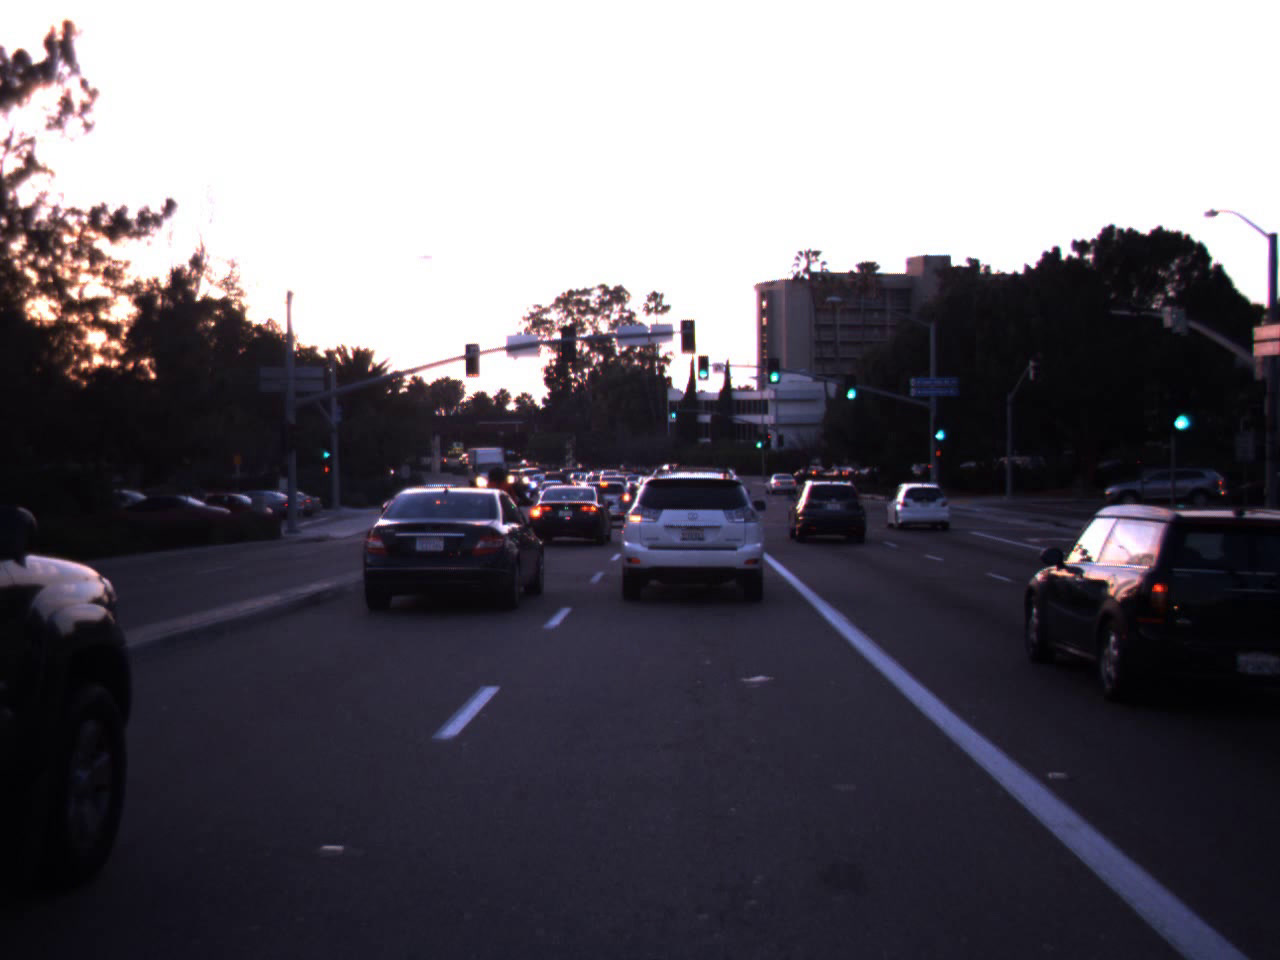go: (1162, 378, 1201, 433), (760, 340, 787, 385), (689, 345, 716, 380), (841, 362, 862, 402), (928, 407, 952, 442), (753, 424, 765, 449), (319, 439, 334, 459), (667, 399, 679, 419)
